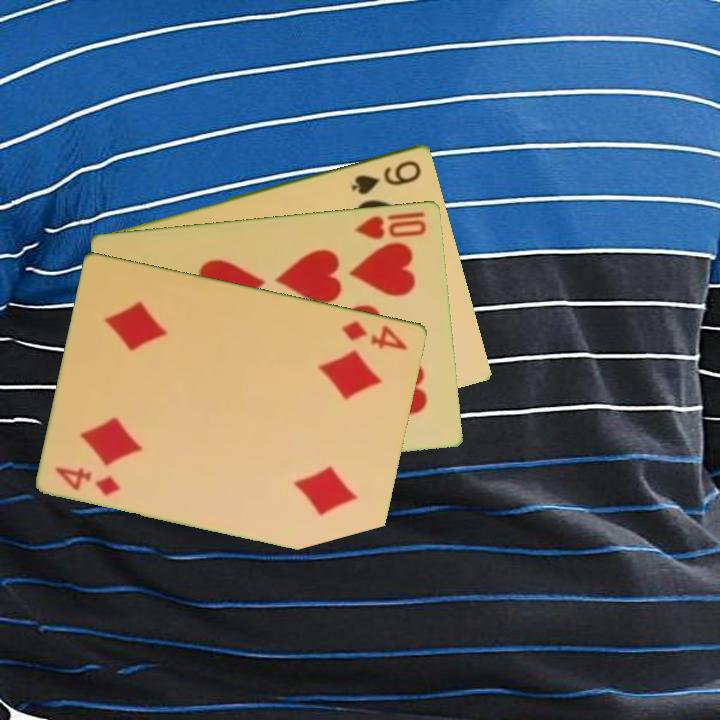10h: (351, 207, 429, 242)
4d: (338, 317, 411, 353), (51, 463, 124, 499)
9s: (348, 156, 425, 197)
